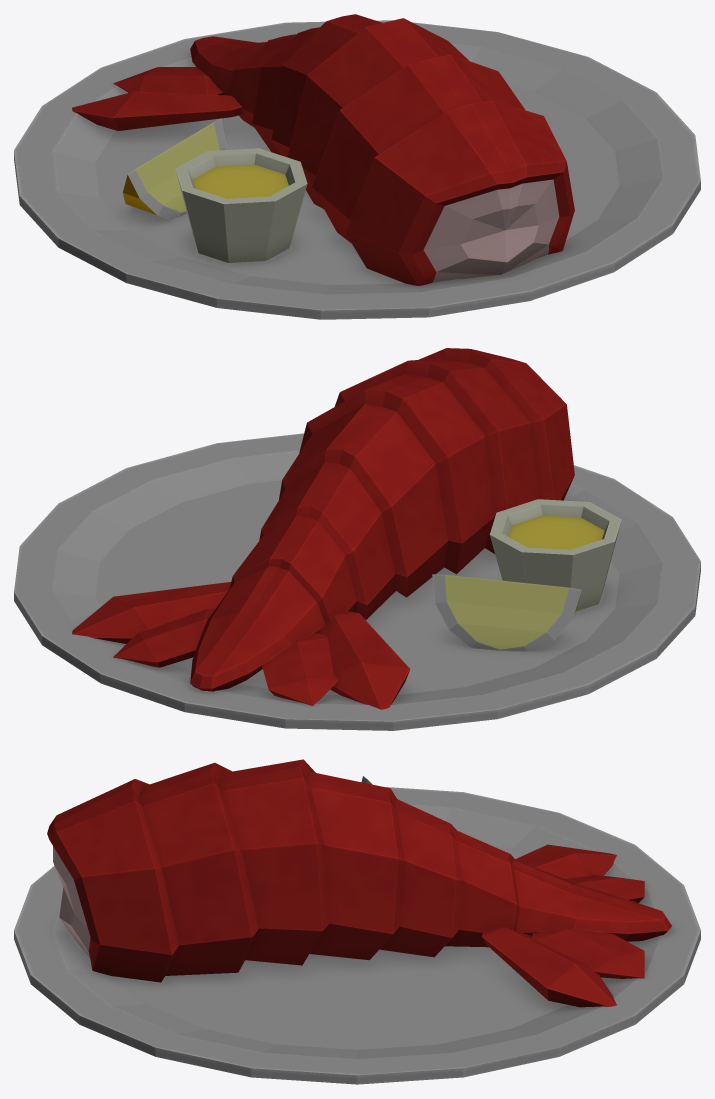
The model's file is LobsterTail.gltf.
3 renders of one model, top to bottom at view 1: azimuth 30°, elevation 25°; view 2: azimuth 150°, elevation 25°; view 3: azimuth 270°, elevation 25°, orthographic.
Parts seen in each view (by area): view 1: node-0; view 2: node-0; view 3: node-0.
Boxes of the visible parts, left/top/right/bottom form: node-0: left=14, top=14, right=700, bottom=319; node-0: left=14, top=348, right=700, bottom=730; node-0: left=14, top=759, right=700, bottom=1084.
Size of the model in its own units: 2.57 by 0.8566 by 2.57.
1 material, 1 textured.
